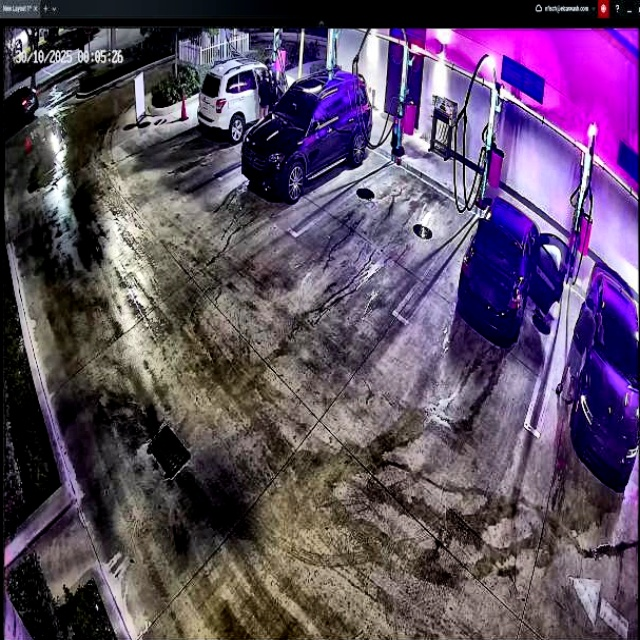Car: (243, 66, 372, 203), (457, 194, 567, 337)
